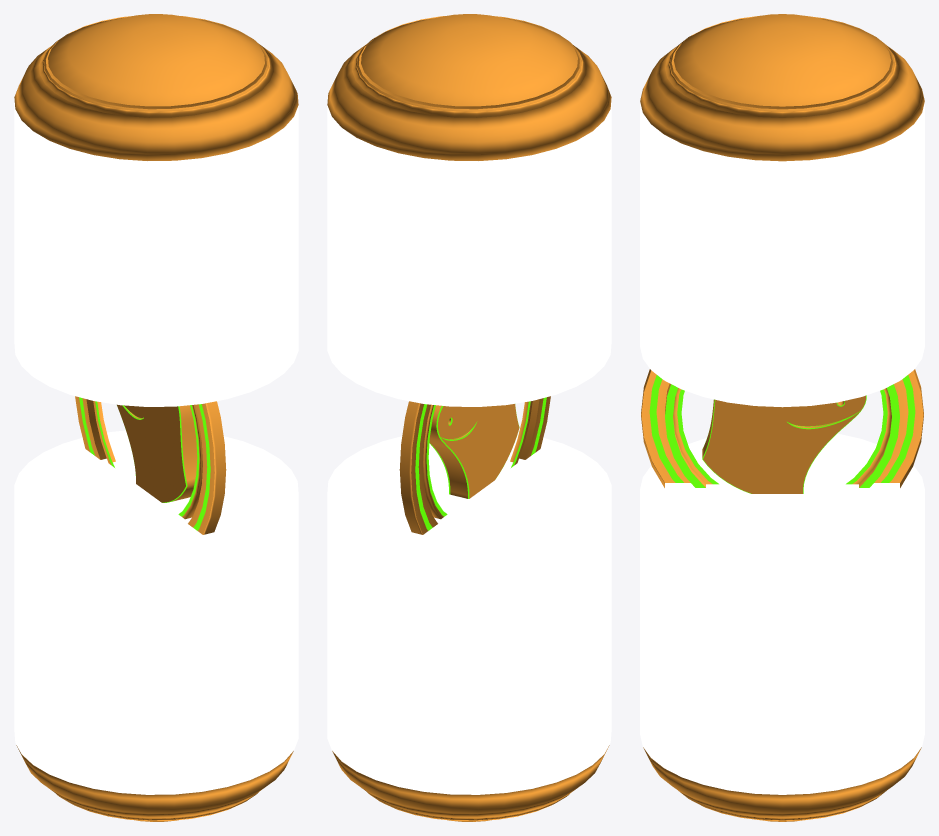
Rendered from gecko.gltf.
3 views of the same model, side by side, from view 1: azimuth 30°, elevation 25°; view 2: azimuth 150°, elevation 25°; view 3: azimuth 270°, elevation 25° (orthographic).
Parts seen in each view (by area): view 1: Cylinder.003, Cylinder.002, path3, Cylinder; view 2: Cylinder.003, Cylinder.002, path3, Cylinder; view 3: Cylinder.003, Cylinder.002, path3, Cylinder.
Boxes of the visible parts, x1=… form: Cylinder.003: x1=14, y1=14, x2=298, y2=406; Cylinder.002: x1=14, y1=430, x2=298, y2=821; path3: x1=117, y1=404, x2=197, y2=502; Cylinder: x1=75, y1=396, x2=226, y2=534; Cylinder.003: x1=327, y1=14, x2=611, y2=406; Cylinder.002: x1=327, y1=432, x2=611, y2=821; path3: x1=429, y1=404, x2=519, y2=498; Cylinder: x1=399, y1=396, x2=550, y2=534; Cylinder.003: x1=640, y1=14, x2=924, y2=407; Cylinder.002: x1=640, y1=433, x2=924, y2=821; path3: x1=702, y1=395, x2=866, y2=493; Cylinder: x1=641, y1=369, x2=923, y2=487.
Bounding box in the file's own units: 2 × 5.95 × 2.
